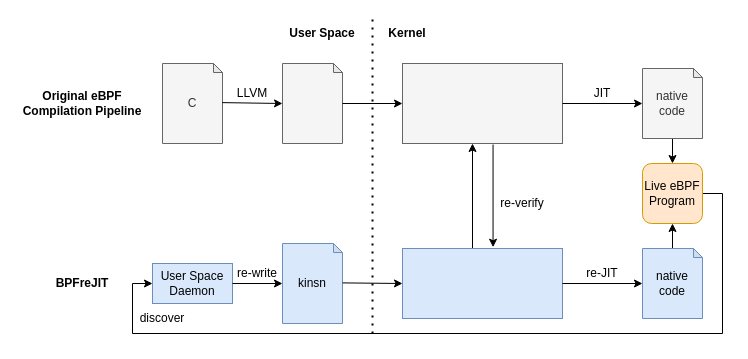
Some shapes in this 748 by 359 pixel diagram are drawn without their labels. Here are the shapes that lost their labels. From the top down, the box of each, then its label:
(282, 62, 342, 144): eBPF bytecode
(402, 62, 562, 144): eBPF Verifier
(402, 248, 562, 318): Kernel Extension
